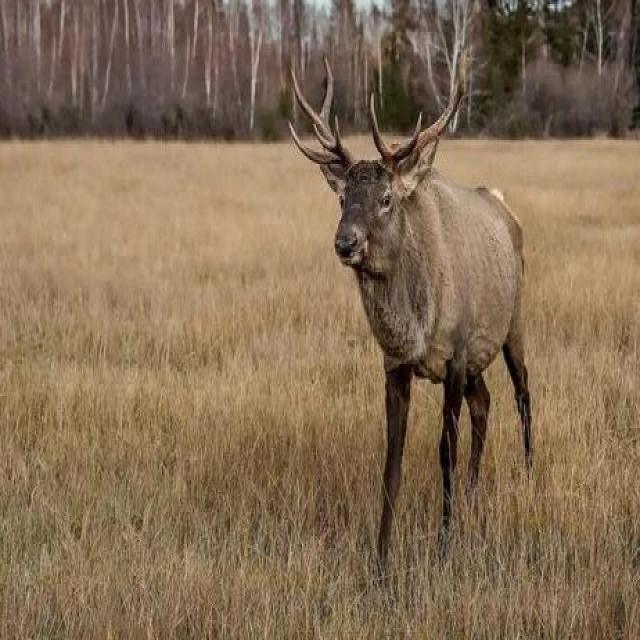deer: (311, 71, 588, 553)
